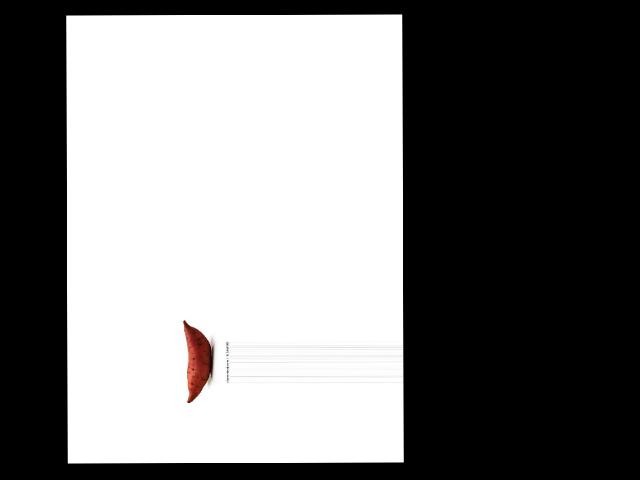sweet_potato: (178, 319, 212, 403)
